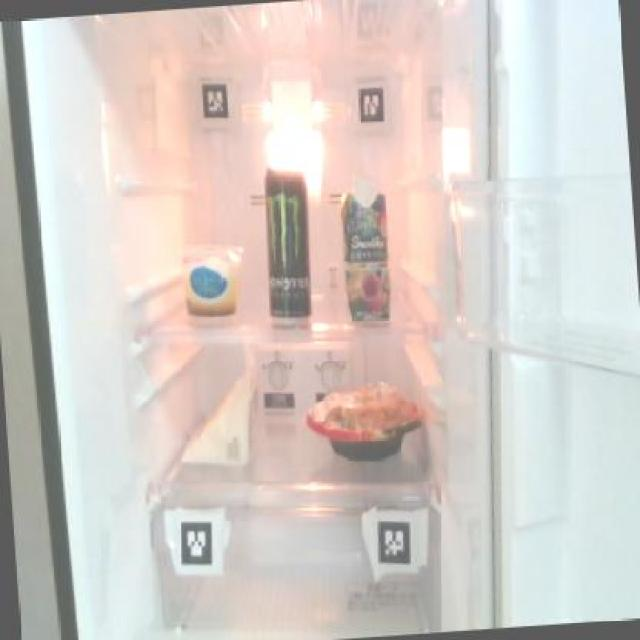bento: (301, 383, 428, 468)
energy_drink: (258, 161, 316, 325)
pudding: (178, 236, 247, 321)
sandwich: (169, 356, 265, 472)
smoothie: (336, 169, 396, 328)
